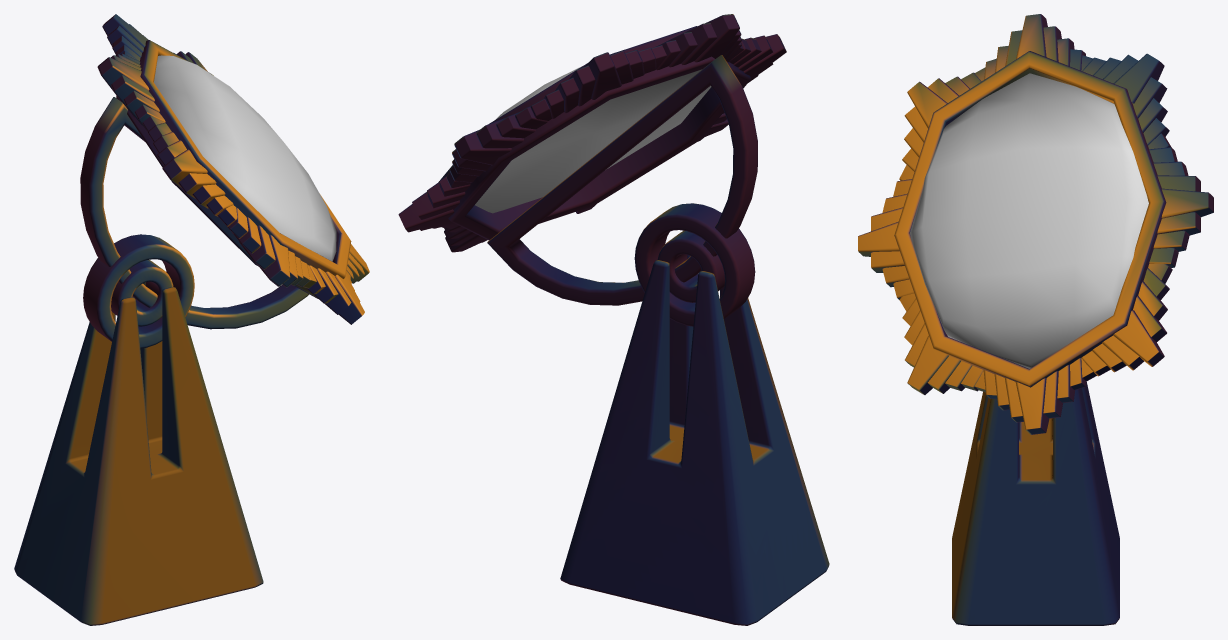
Rendered from Mirror.fbx.
The picture shows the model from 3 angles, left to right: view 1: azimuth 30°, elevation 25°; view 2: azimuth 150°, elevation 25°; view 3: azimuth 270°, elevation 25°; orthographic projection. The views are drawn at different scales.
Parts seen in each view (by area): view 1: Stand, Mirror; view 2: Stand, Mirror; view 3: Mirror, Stand.
Boxes of the visible parts, bbox=[...] form: Stand: bbox=[14, 282, 263, 625]; Mirror: bbox=[80, 14, 369, 348]; Stand: bbox=[560, 255, 829, 625]; Mirror: bbox=[398, 14, 786, 326]; Mirror: bbox=[858, 14, 1213, 434]; Stand: bbox=[952, 382, 1119, 625].
Bounding box in the file's own units: 114 × 180 × 105.
